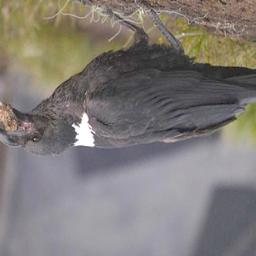Crow: (0, 0, 256, 162)
